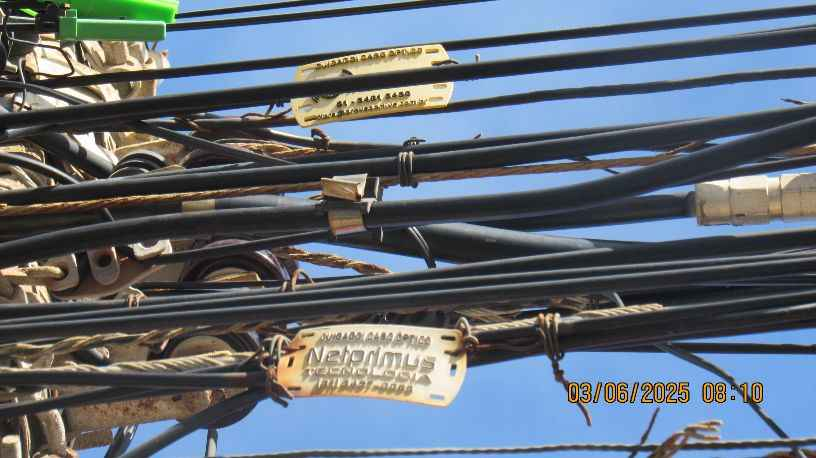fibra_optica: (273, 293, 472, 438), (290, 28, 456, 132)
